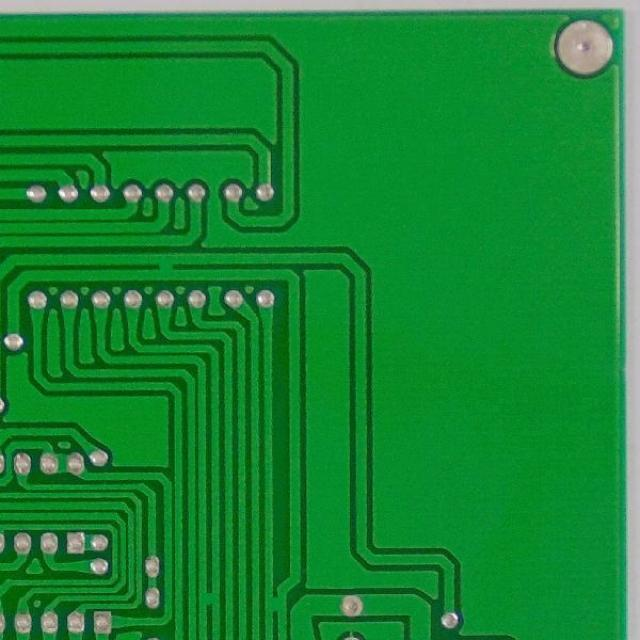Short_Circuit: (150, 246, 182, 284), (260, 590, 292, 618), (194, 586, 225, 614)
